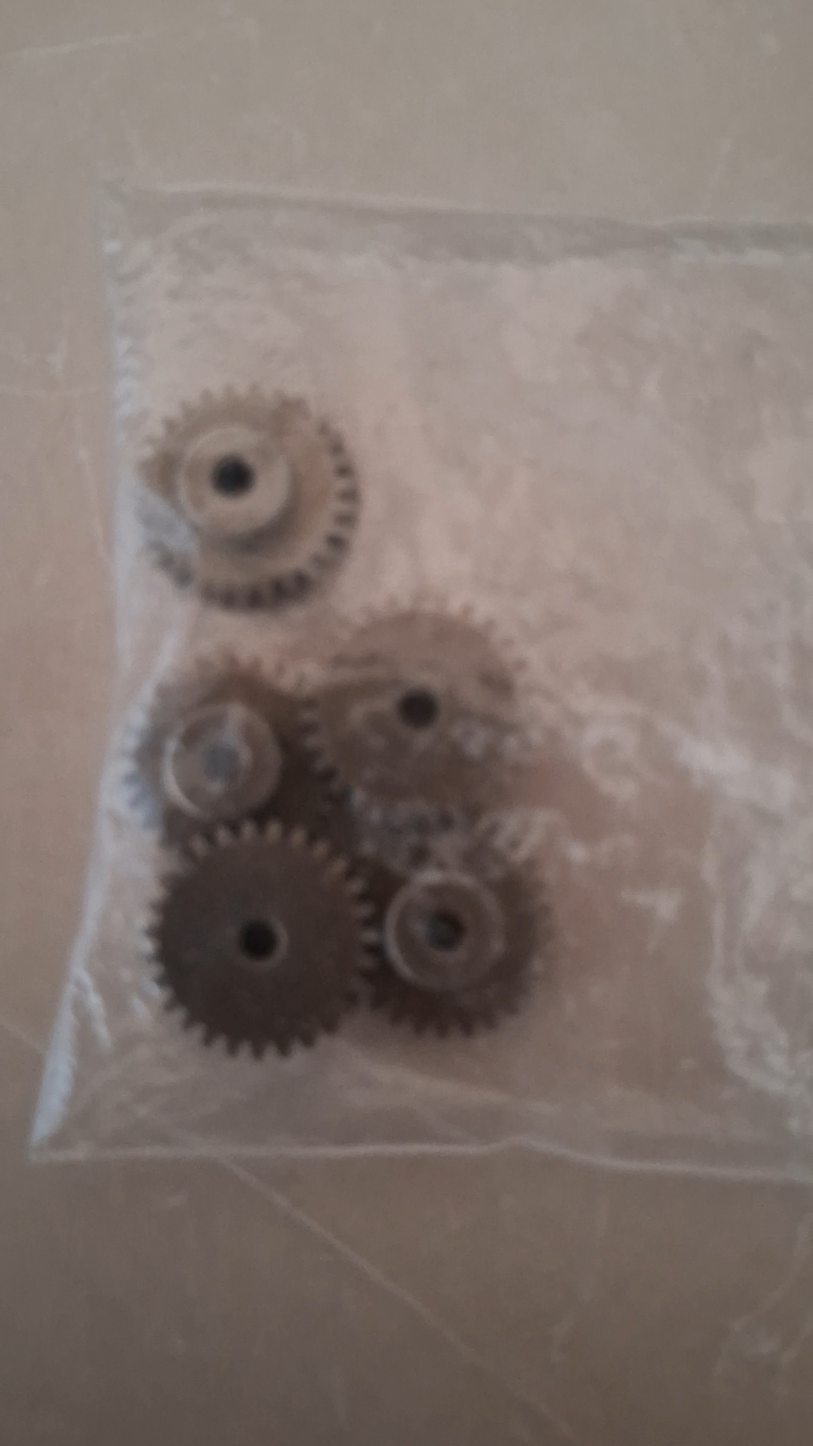spur gear: (142, 851, 370, 1092), (139, 418, 355, 635), (303, 626, 525, 837), (360, 854, 554, 1074), (125, 681, 330, 881)
